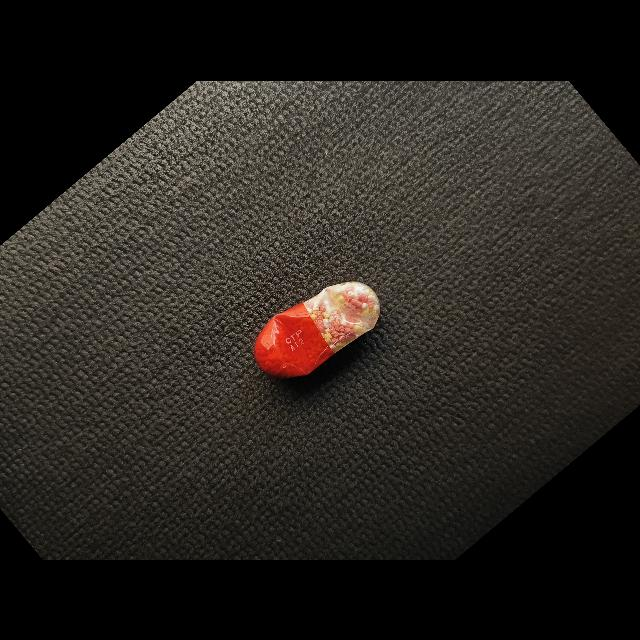Defective Capsule: (254, 281, 380, 378)
